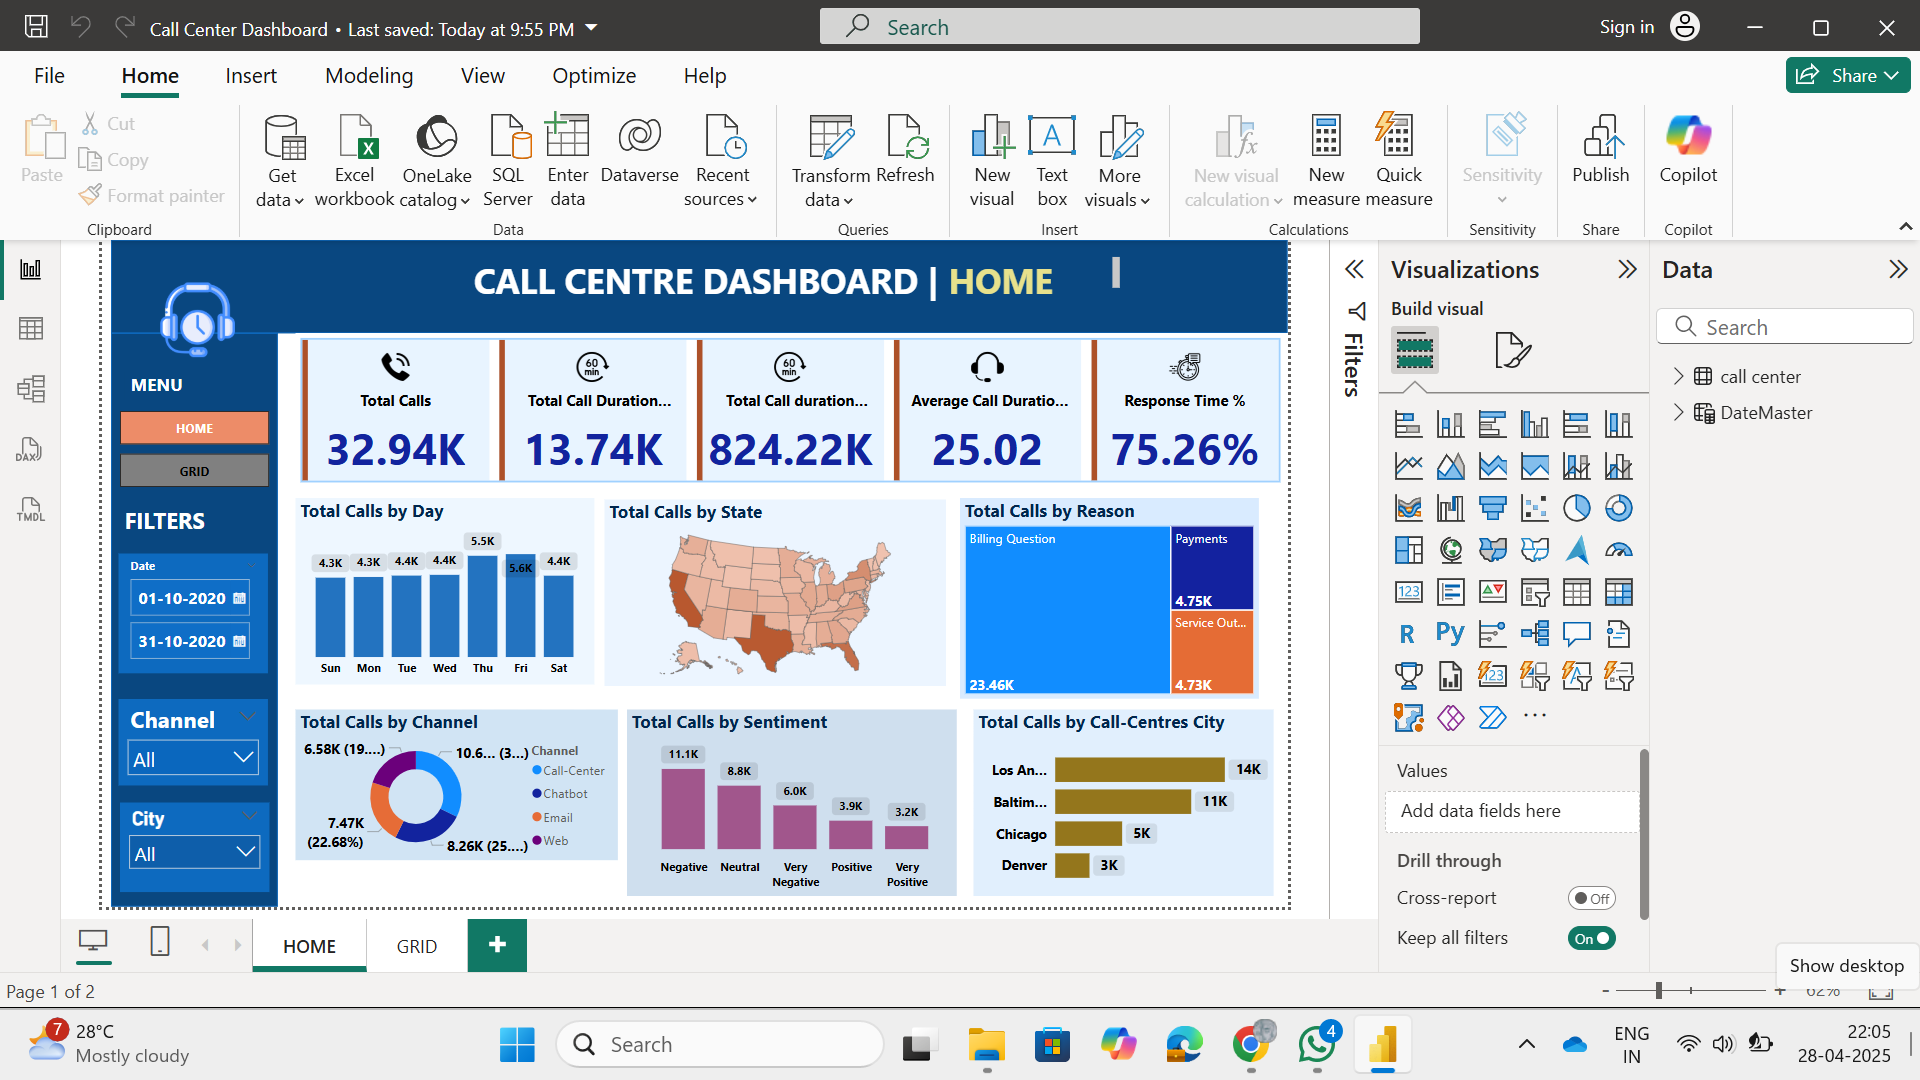

This screenshot's page, from the dashboard's own definition file:
{"tool":"powerbi","page":{"name":"HOME","canvas":[1280,720],"ordinal":0},"visuals":[{"type":"shape","box":[10.1,0,1269.9,100.8],"z":0},{"type":"textbox","box":[396,13,707,57.6],"z":1000},{"type":"cardVisual","fields":{"Data":["call center.Total Calls","call center.Total Call Duration (Hrs)","call center.Call duration (Min)","call center.Average Call Duration (Min)","call center.Response Time %"]},"box":[208.3,100.8,1071.7,166.3],"z":2000},{"type":"columnChart","fields":{"Category":["DateMaster.Day"],"Y":["call center.Total Calls"]},"box":[208.3,278.8,322.5,201.6],"z":3000},{"type":"shapeMap","fields":{"Category":["call center.State"],"Value":["call center.Total Calls"]},"box":[542.9,279.4,368.6,201.6],"z":4000},{"type":"treemap","fields":{"Values":["call center.Total Calls"],"Group":["call center.Reason"]},"box":[925.6,278.8,322.5,216.7],"z":5000},{"type":"donutChart","fields":{"Category":["call center.Channel"],"Y":["call center.Total Calls"]},"box":[208.3,507.3,347.7,162.9],"z":6000},{"type":"clusteredColumnChart","fields":{"Category":["call center.Sentiment"],"Y":["call center.Total Calls"]},"box":[566.1,507.3,356.1,201.6],"z":7000},{"type":"clusteredBarChart","fields":{"Y":["call center.Total Calls"],"Category":["call center.Call-Centres City"]},"box":[940.7,507.3,324.2,201.6],"z":8000},{"type":"shape","box":[10.1,100.8,180,619.2],"z":9000},{"type":"image","box":[27.4,40.3,151.2,90.7],"z":10000},{"type":"pageNavigator","box":[20.2,184.3,161.3,82.1],"z":11000},{"type":"slicer","fields":{"Values":["DateMaster.Date"]},"box":[17.3,338.4,161.3,129.6],"z":12000},{"type":"slicer","fields":{"Values":["call center.Channel"]},"box":[17.3,495.4,161.3,93.6],"z":13000},{"type":"slicer","fields":{"Values":["call center.City"]},"box":[20.2,607.7,161.3,96.5],"z":14000},{"type":"textbox","title":"MENU","box":[20.2,142.6,79.2,31.7],"z":15000},{"type":"textbox","box":[20.2,279.4,112.3,46.1],"z":16000}]}

Visuals, with their boxes on the page's 1280x720 design canvas (x1, y1, x2, y2). These are canvas units, not pixel positions in the 1920x1080 screenshot, which may show the page scaled, cropped or inside an application window:
shape: (10,0,1280,101)
textbox: (396,13,1103,71)
cardVisual - call center.Total Calls x call center.Total Call Duration (Hrs): (208,101,1280,267)
columnChart - DateMaster.Day x call center.Total Calls: (208,279,531,480)
shapeMap - call center.State x call center.Total Calls: (543,279,912,481)
treemap - call center.Total Calls x call center.Reason: (926,279,1248,496)
donutChart - call center.Channel x call center.Total Calls: (208,507,556,670)
clusteredColumnChart - call center.Sentiment x call center.Total Calls: (566,507,922,709)
clusteredBarChart - call center.Total Calls x call center.Call-Centres City: (941,507,1265,709)
shape: (10,101,190,720)
image: (27,40,179,131)
pageNavigator: (20,184,182,266)
slicer - DateMaster.Date: (17,338,179,468)
slicer - call center.Channel: (17,495,179,589)
slicer - call center.City: (20,608,182,704)
"MENU" textbox: (20,143,99,174)
textbox: (20,279,132,326)
